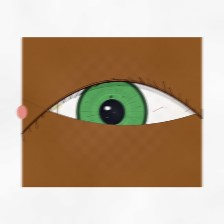pinguecula_lesion: (29, 88, 73, 123)
